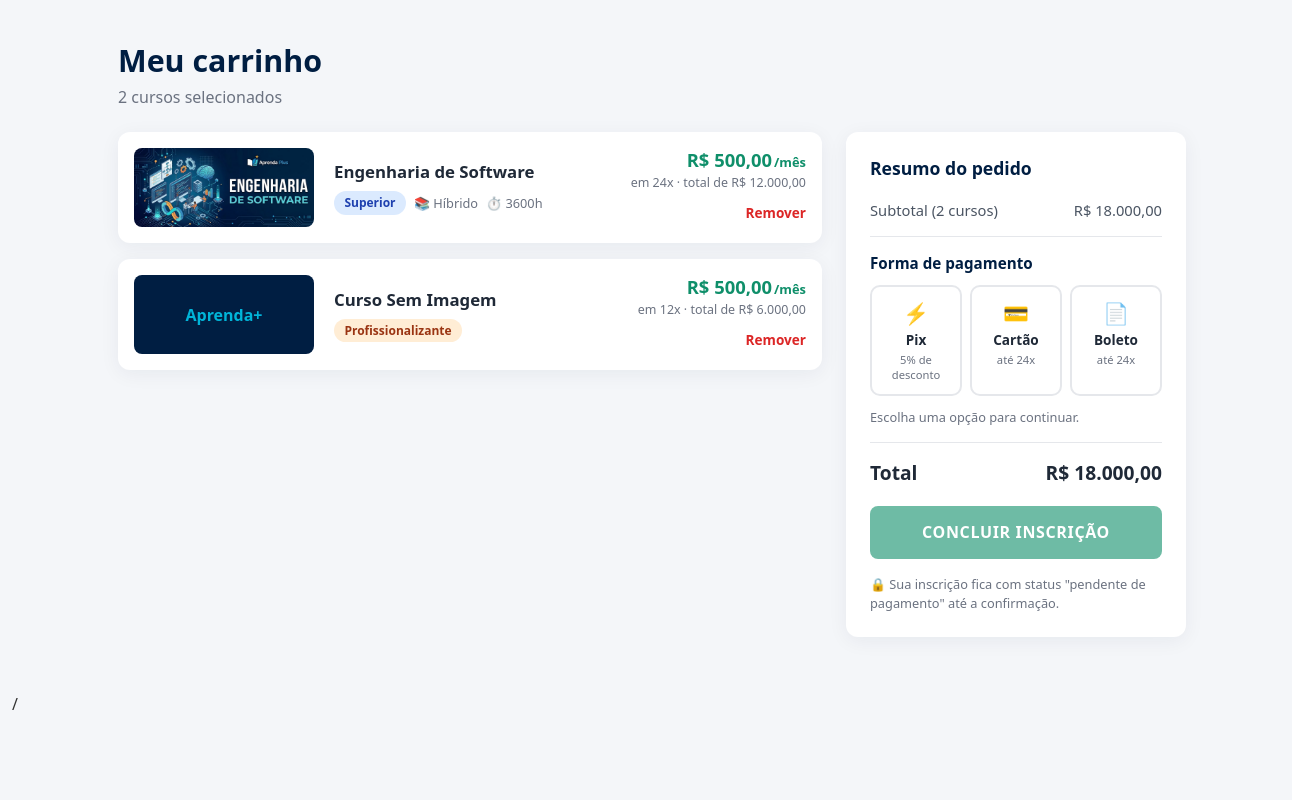
forma de pagamento › Pix aplica 5% de desconto no total
The width and height of the screenshot is (1292, 800).
expect the heading "Meu carrinho" is shown: met, box [118,40,322,81]
Click the text "Pix" at (916, 340), box [906,330,926,349]
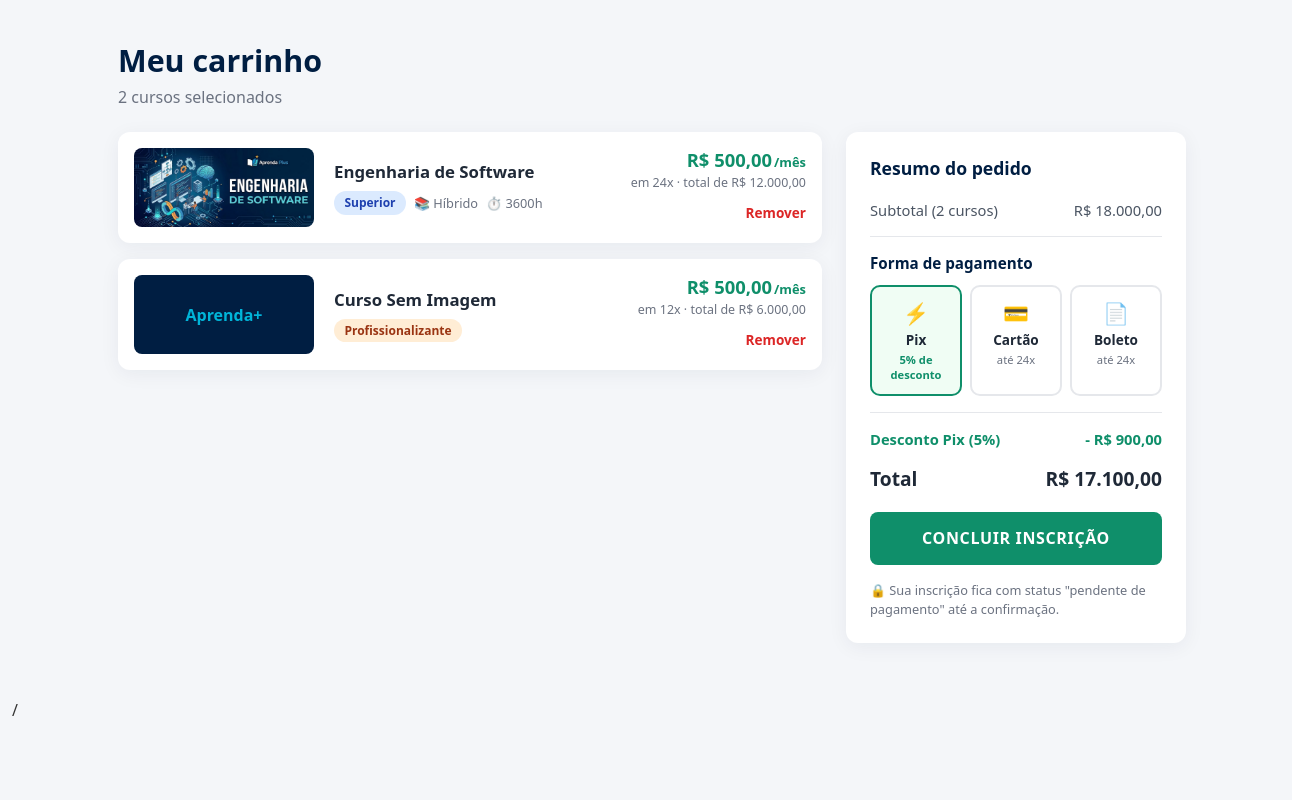
expect the element showing "Desconto Pix (5%) - R$ 900,00" is shown: met, box [870,429,1162,449]
expect the element showing "Total R$ 17.100,00" is shown: met, box [870,465,1162,492]
